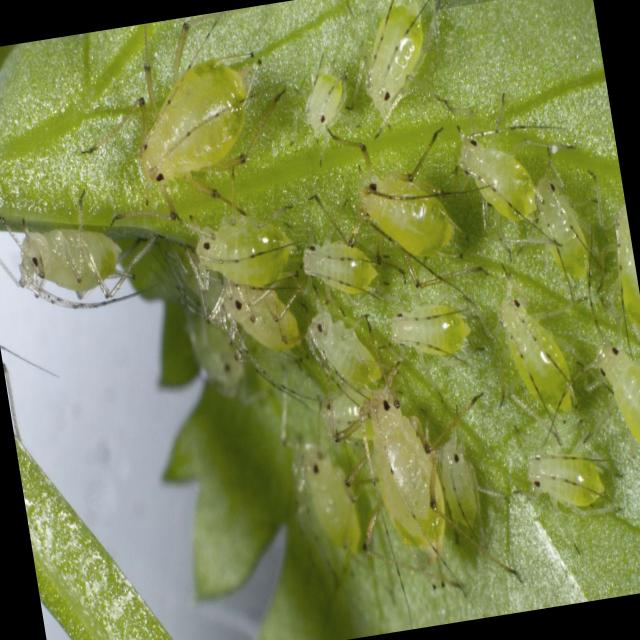Aphid: (103, 21, 281, 219), (338, 366, 462, 577), (0, 179, 165, 333), (314, 127, 474, 285), (487, 268, 597, 449), (207, 259, 326, 421), (430, 110, 557, 254), (297, 281, 399, 419), (337, 0, 451, 123), (180, 201, 309, 301), (512, 427, 632, 534), (528, 161, 608, 315), (381, 276, 488, 382), (432, 414, 503, 556), (295, 220, 393, 308), (285, 50, 363, 146)
